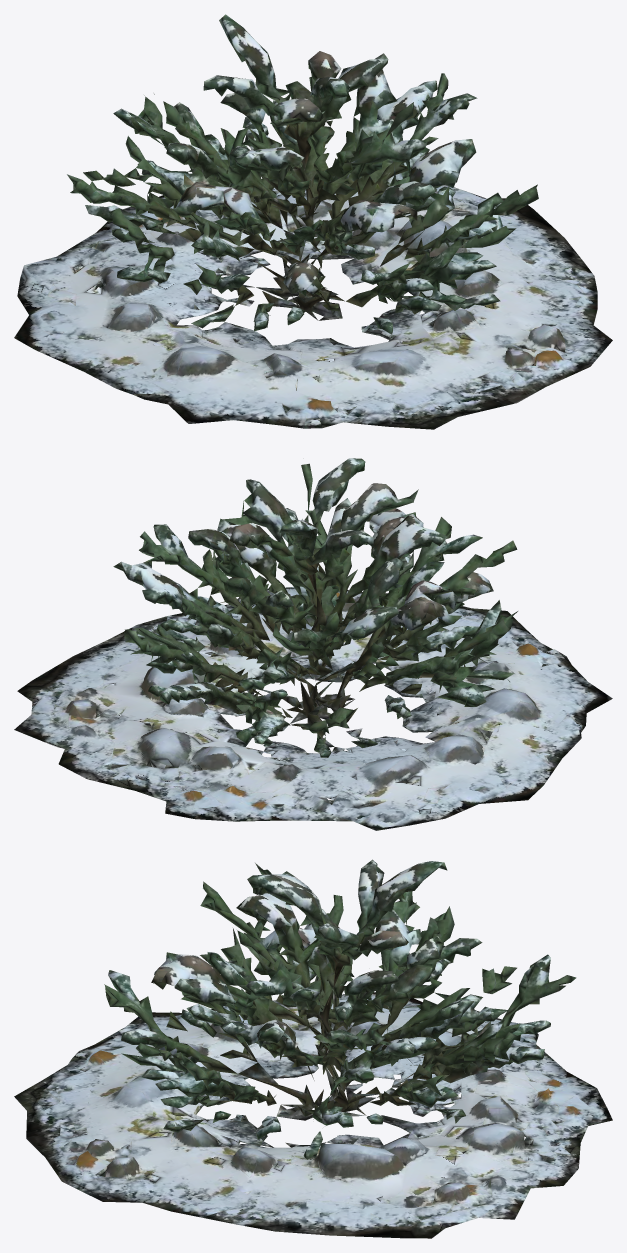
Rendered from snow-bush-2.glb.
3 views of the same model, one above another, from view 1: azimuth 30°, elevation 25°; view 2: azimuth 150°, elevation 25°; view 3: azimuth 270°, elevation 25° (orthographic). The views are drawn at different scales.
Visible parts, largest first — view 1: geometry_0; view 2: geometry_0; view 3: geometry_0.
Boxes of the visible parts, bbox=[...] form: geometry_0: bbox=[14, 14, 612, 429]; geometry_0: bbox=[14, 458, 612, 830]; geometry_0: bbox=[14, 859, 612, 1238].
Bounding box in the file's own units: 0.875 × 0.4093 × 0.8991.
Materials: 1 (1 with a texture image).
